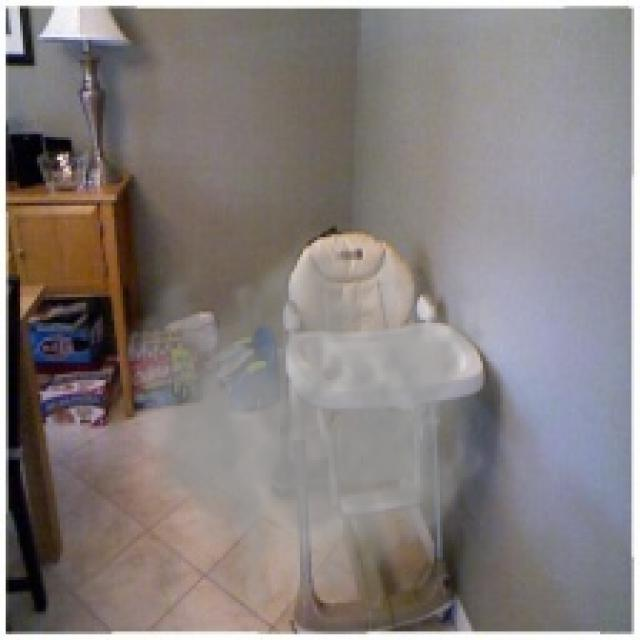smoke: (94, 217, 500, 626)
